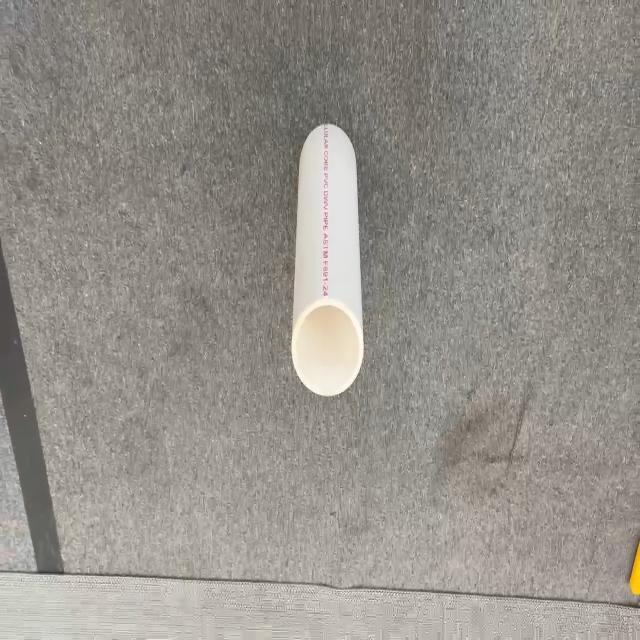coral: (290, 121, 364, 396)
